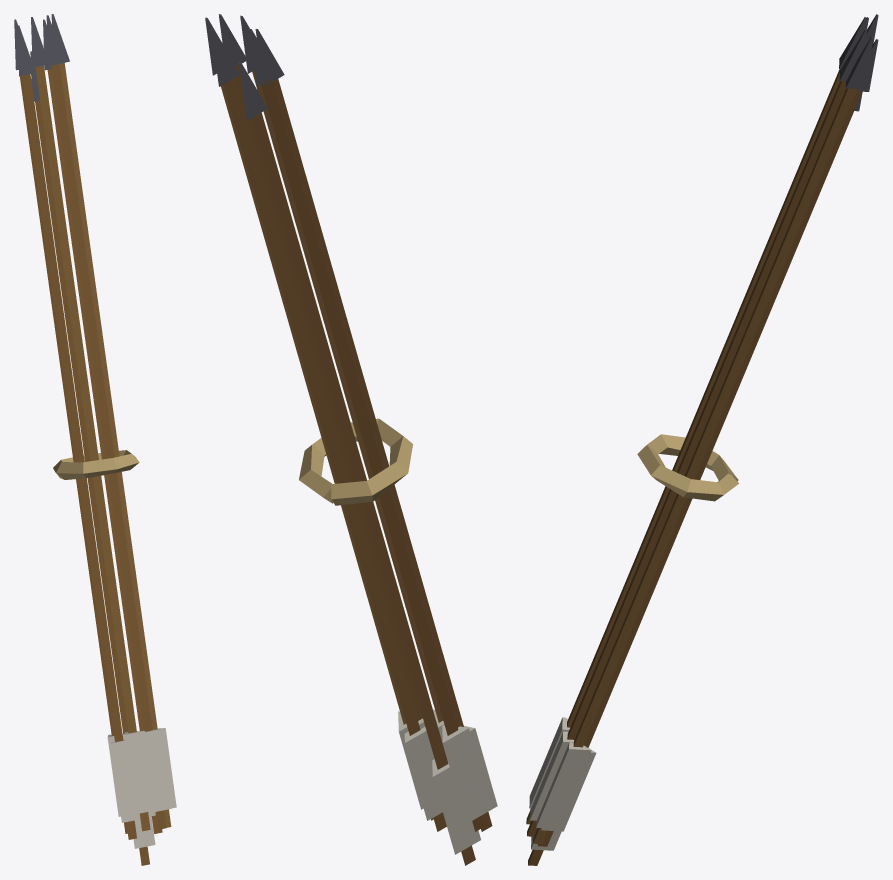
Rendered from toolmaker_hut_frecce.glb.
3 views of the same model, side by side, from view 1: azimuth 30°, elevation 25°; view 2: azimuth 150°, elevation 25°; view 3: azimuth 270°, elevation 25° (orthographic). The views are drawn at different scales.
Parts seen in each view (by area): view 1: toolmaker_hut_frecce; view 2: toolmaker_hut_frecce; view 3: toolmaker_hut_frecce.
Boxes of the visible parts, bbox=[...] form: toolmaker_hut_frecce: bbox=[14, 14, 176, 865]; toolmaker_hut_frecce: bbox=[205, 14, 497, 865]; toolmaker_hut_frecce: bbox=[526, 14, 878, 865].
Size of the model in its own units: 0.1527 by 1.31 by 0.4838.
